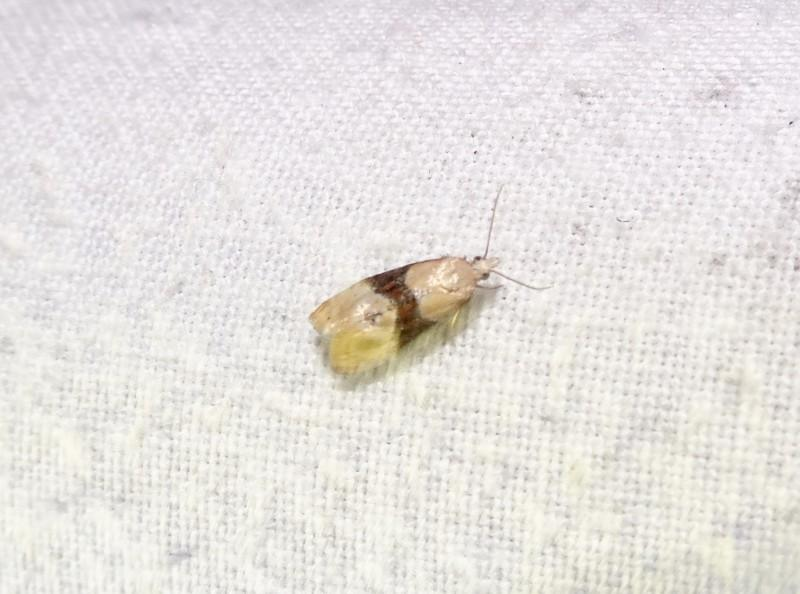Eupoecilia Ambiguella: (307, 183, 552, 377)
